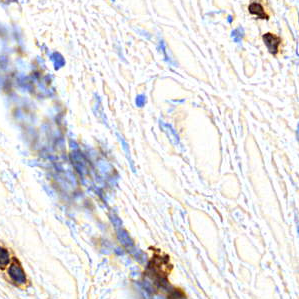Lymphocyte: (9, 255, 35, 286)
